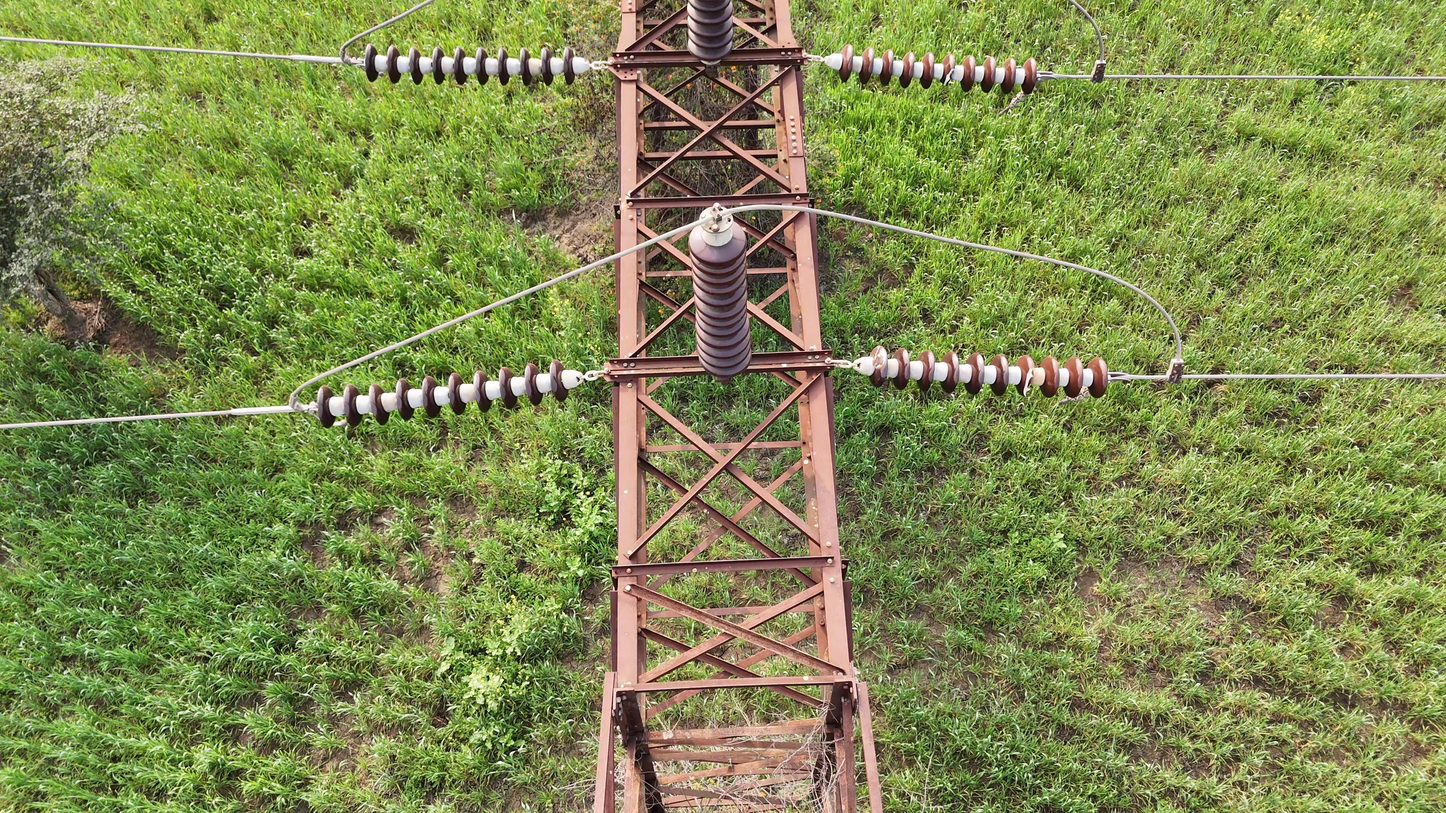broken_insulator: (1015, 353, 1036, 405), (939, 52, 958, 95)
